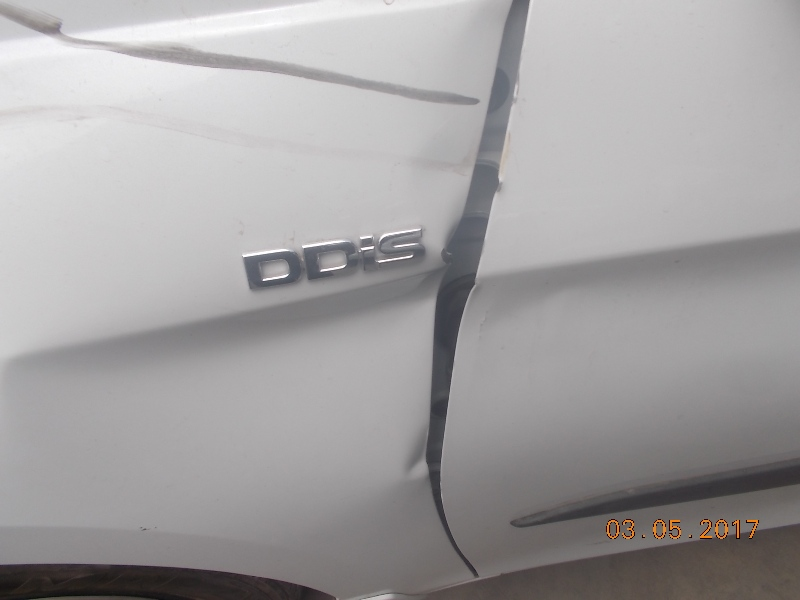Dislocation: (417, 9, 522, 516)
